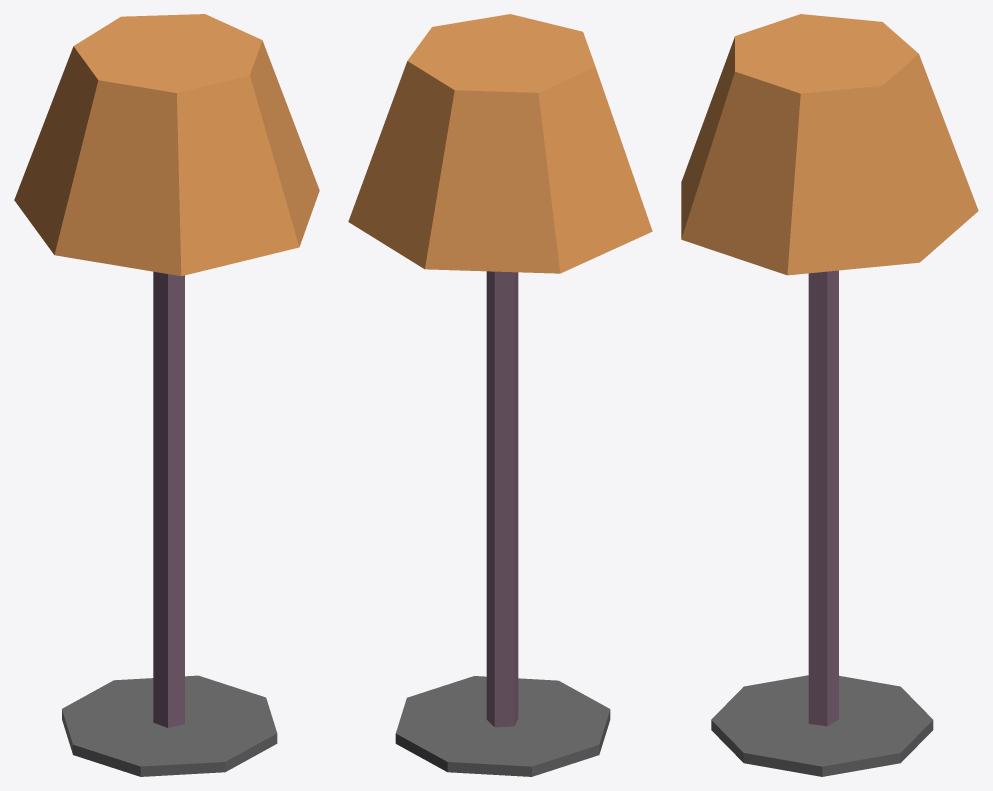
Rendered from LanbaBuyuk.fbx.
3 views of the same model, side by side, from view 1: azimuth 30°, elevation 25°; view 2: azimuth 150°, elevation 25°; view 3: azimuth 270°, elevation 25° (orthographic).
Visible parts, largest first — view 1: Cone.005, Circle; view 2: Cone.005, Circle; view 3: Cone.005, Circle.
Part boxes in pixels (x1,y1,x2,y2): Cone.005: (14, 14, 319, 276); Circle: (62, 271, 277, 776); Cone.005: (348, 14, 652, 273); Circle: (395, 271, 610, 776); Cone.005: (681, 14, 978, 275); Circle: (711, 270, 933, 776).
Bounding box in the file's own units: 318 × 778 × 310.
